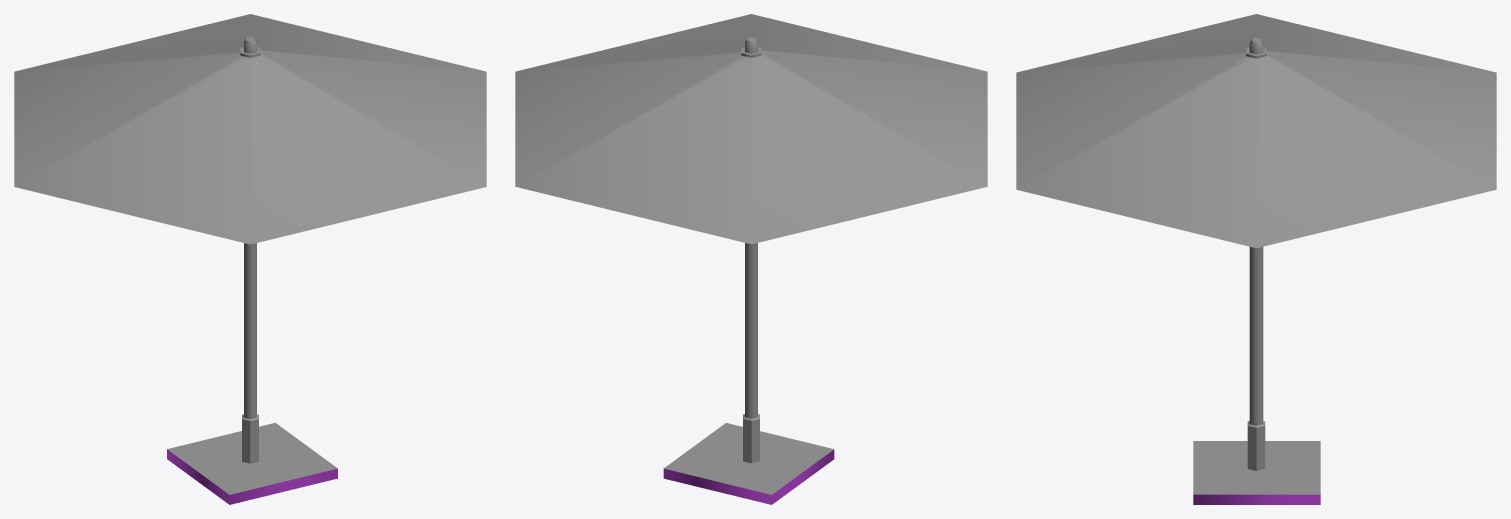
Rendered from parasol.fbx.
The picture shows the model from 3 angles, left to right: view 1: azimuth 30°, elevation 25°; view 2: azimuth 150°, elevation 25°; view 3: azimuth 270°, elevation 25°; orthographic projection.
Visible parts, largest first — view 1: parasol; view 2: parasol; view 3: parasol.
Part boxes in pixels (x1,y1,x2,y2): parasol: [14, 14, 486, 504]; parasol: [515, 14, 987, 504]; parasol: [1016, 14, 1496, 504].
Bounding box in the file's own units: 3.46 × 3.01 × 3.
